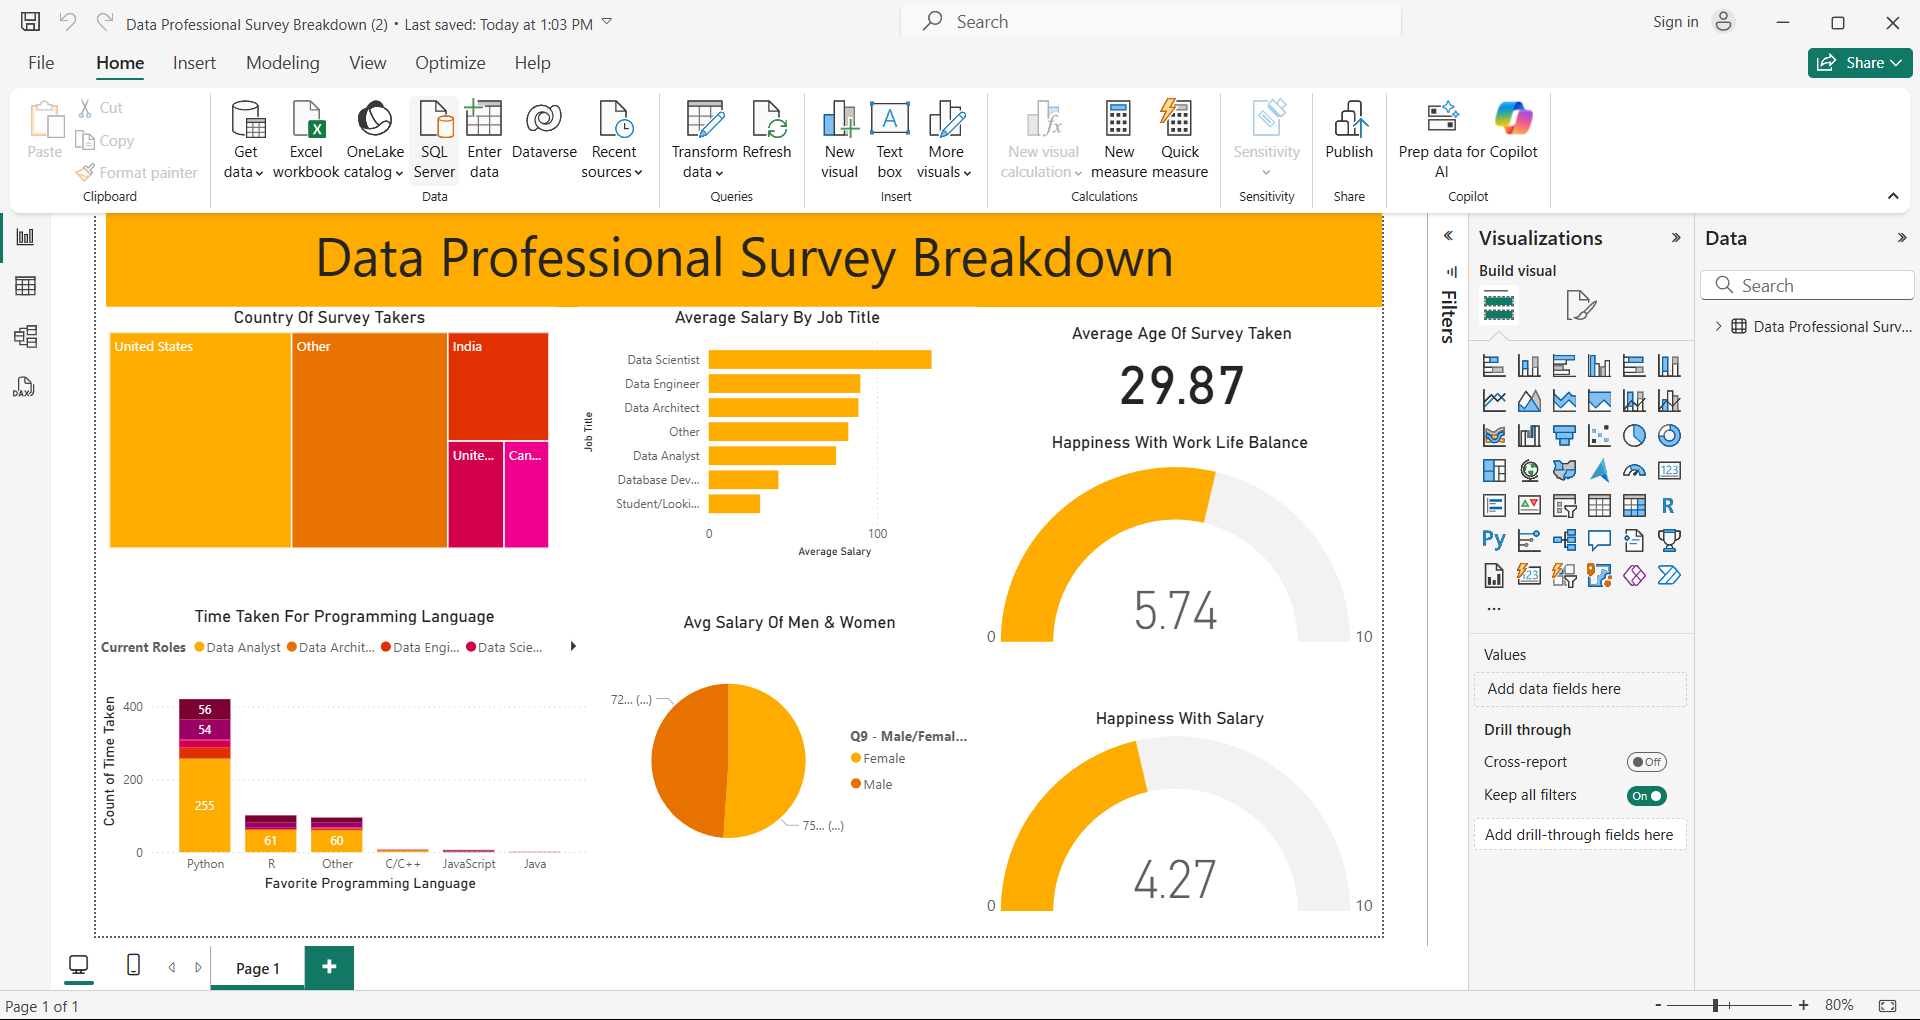

The page's visual inventory and layout, read from the dashboard file:
{"tool":"powerbi","page":{"name":"Page 1","canvas":[1280,720],"ordinal":0},"visuals":[{"type":"textbox","box":[9.6,0,1270.7,93.3],"z":0},{"type":"textbox","box":[10,290,280,280],"z":1000},{"type":"card","title":"Average Age Of Survey Taken","fields":{"Values":["Avg(Data Professional Survey.Q10 - Current Age)"]},"box":[916.5,109.3,327.8,88.7],"z":2000},{"type":"barChart","title":"Average Salary By Job Title","fields":{"Category":["Data Professional Survey.Q1 - Which Title Best Fits your Current Role?.1"],"Y":["Avg(Data Professional Survey.Average Salary)"]},"box":[480.7,93.8,395.9,254.5],"z":3000},{"type":"columnChart","title":"Time Taken For Programming Language","fields":{"Category":["Data Professional Survey.Q5 - Favorite Programming Language.1"],"Y":["CountNonNull(Data Professional Survey.Time Taken (America/New_York))"],"Series":["Data Professional Survey.Q1 - Which Title Best Fits your Current Role?.1"]},"box":[0,390.8,494.9,289.2],"z":4000},{"type":"treemap","title":"Country Of Survey Takers","fields":{"Group":["Data Professional Survey.Q11 - Which Country do you live in?.1"],"Values":["CountNonNull(Data Professional Survey.Q11 - Which Country do you live in?.1)"]},"box":[9,93.8,447.3,245.5],"z":4001},{"type":"gauge","title":"Happiness With Work Life Balance","fields":{"Y":["Avg(Data Professional Survey.Q6 - How Happy are you in your Current Position with the following? (Work/Life Balance))"],"MinValue":["Min(Data Professional Survey.Q6 - How Happy are you in your Current Position with the following? (Work/Life Balance))1"],"MaxValue":["Max(Data Professional Survey.Q6 - How Happy are you in your Current Position with the following? (Work/Life Balance))"]},"box":[876.6,217.2,403.6,228.8],"z":4002},{"type":"gauge","title":"Happiness With Salary","fields":{"Y":["Avg(Data Professional Survey.Q6 - How Happy are you in your Current Position with the following? (Salary))"],"MinValue":["Min(Data Professional Survey.Q6 - How Happy are you in your Current Position with the following? (Salary))1"],"MaxValue":["Max(Data Professional Survey.Q6 - How Happy are you in your Current Position with the following? (Salary))2"]},"box":[876.6,492.3,403.6,214.7],"z":4003},{"type":"pieChart","title":"Avg Salary Of Men & Women","fields":{"Category":["Data Professional Survey.Q9 - Male/Female?"],"Y":["Avg(Data Professional Survey.Average Salary)"]},"box":[503.9,397.2,372.8,276.4],"z":4004}]}

Visuals, with their boxes on the page's 1280x720 design canvas (x1, y1, x2, y2). These are canvas units, not pixel positions in the 1920x1020 screenshot, which may show the page scaled, cropped or inside an application window:
textbox: bbox=[10, 0, 1280, 93]
textbox: bbox=[10, 290, 290, 570]
"Average Age Of Survey Taken" card: bbox=[916, 109, 1244, 198]
"Average Salary By Job Title" barChart: bbox=[481, 94, 877, 348]
"Time Taken For Programming Language" columnChart: bbox=[0, 391, 495, 680]
"Country Of Survey Takers" treemap: bbox=[9, 94, 456, 339]
"Happiness With Work Life Balance" gauge: bbox=[877, 217, 1280, 446]
"Happiness With Salary" gauge: bbox=[877, 492, 1280, 707]
"Avg Salary Of Men & Women" pieChart: bbox=[504, 397, 877, 674]
